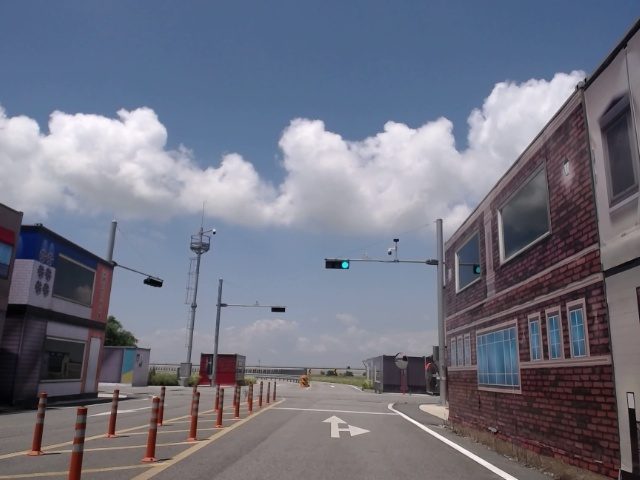green_3: (326, 261, 349, 268)
